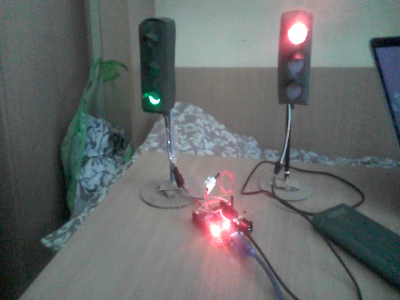trafficlight_green: (139, 20, 171, 112)
trafficlight_red: (282, 15, 312, 103)
